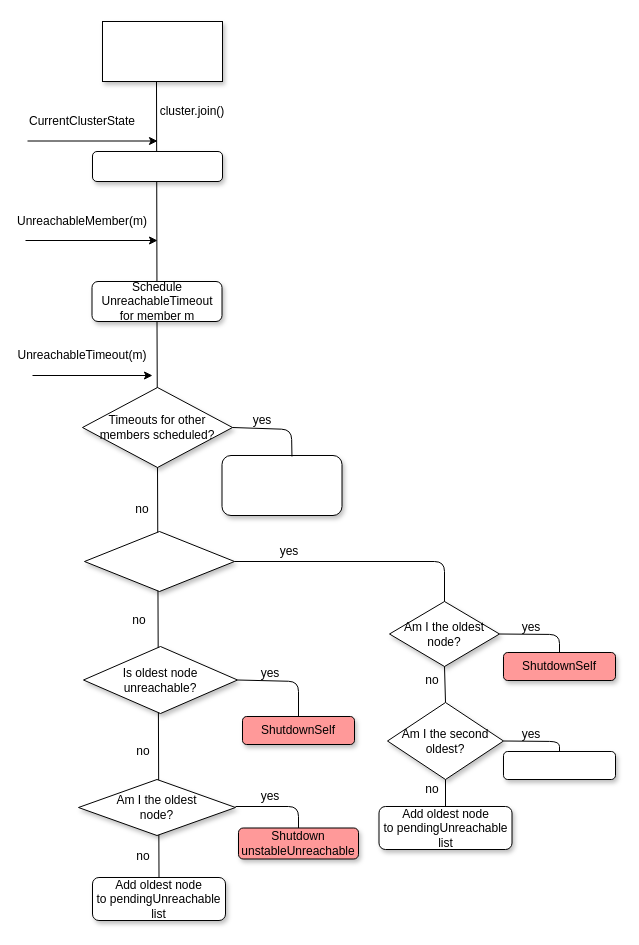
The diagram is 639 pixels wide and 945 high, and some of its shapes have lost their labels. The shapes that lost their labels are listed below. From the top down, each one's centre as x and y in pixels, then its label:
point 163,52: DowningProvider (Keep Oldest)
point 158,167: Init membersByAge
point 282,486: Add to unstableUnreachable and wait for next timeout
point 160,562: Is oldest node alone?
point 560,766: Down oldest node
